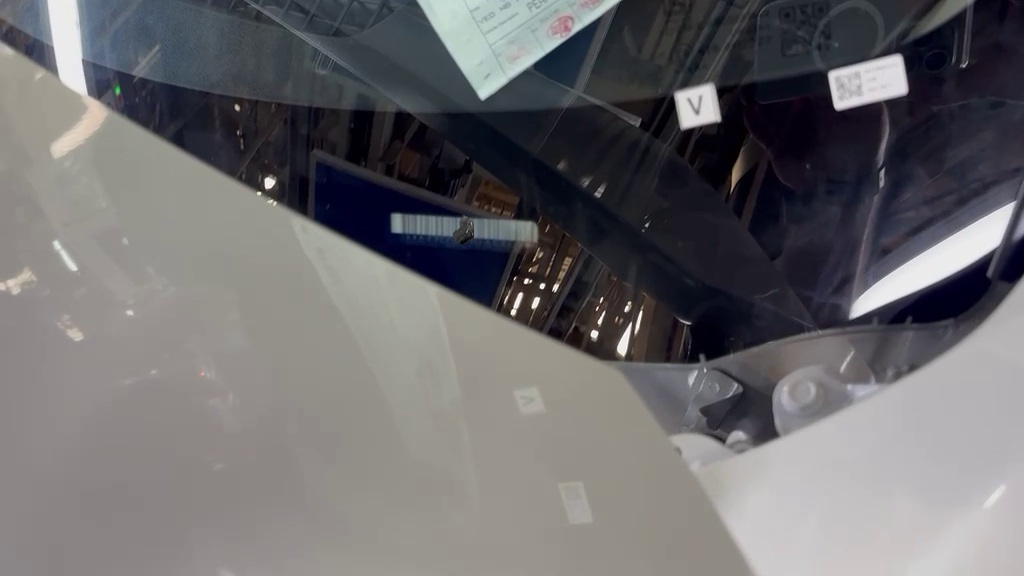hinge: (379, 202, 548, 264)
